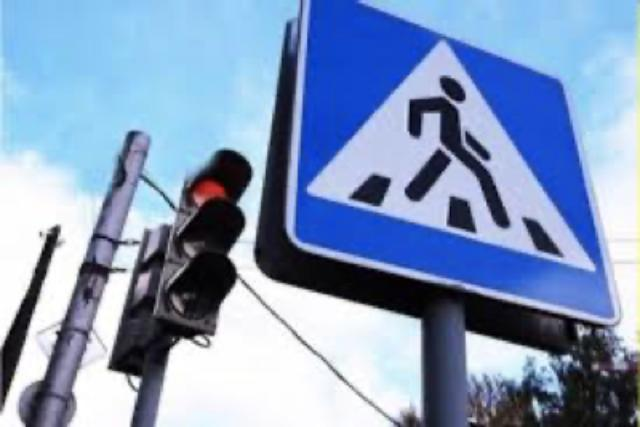crosswalk-sign: (257, 1, 623, 333)
